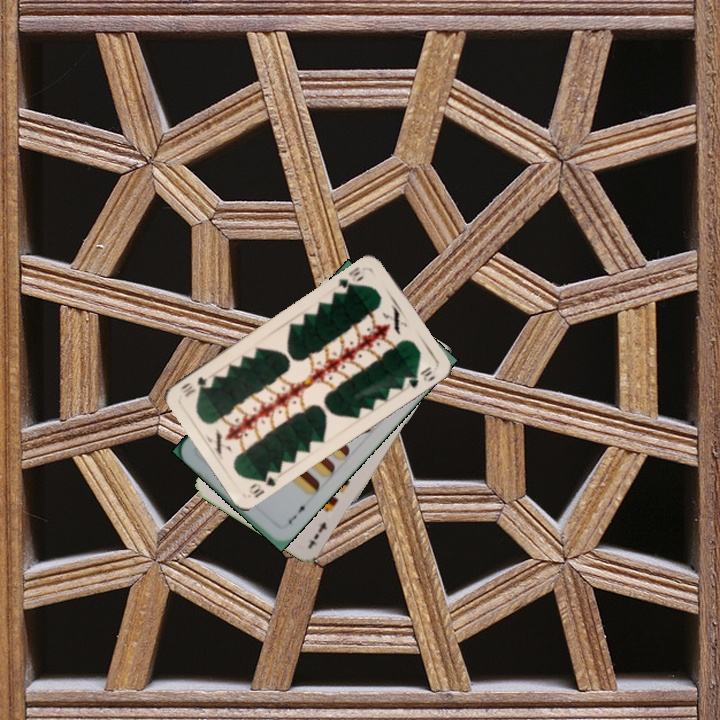E7: (284, 498, 310, 527), (310, 518, 330, 543)
G10: (245, 467, 278, 500), (333, 263, 366, 296)
